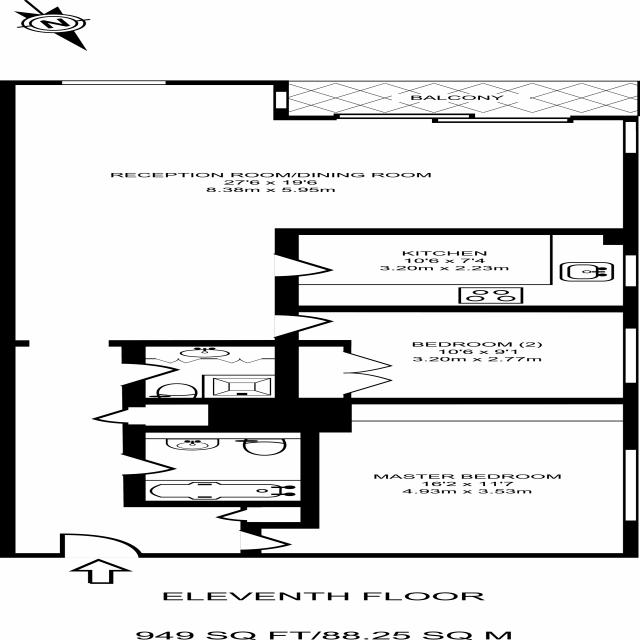DOOR: (59, 533, 146, 558), (273, 252, 340, 278), (119, 362, 185, 388), (273, 314, 339, 339), (121, 452, 181, 476), (239, 529, 296, 551)
ROOM: (0, 80, 640, 347), (207, 397, 639, 558), (273, 305, 639, 405), (273, 228, 640, 313)
SLIDING DOOR: (331, 113, 574, 123)
WINDOW: (622, 449, 639, 521), (622, 328, 639, 384), (622, 121, 640, 154), (621, 255, 639, 287), (60, 80, 167, 85), (273, 91, 289, 109)
